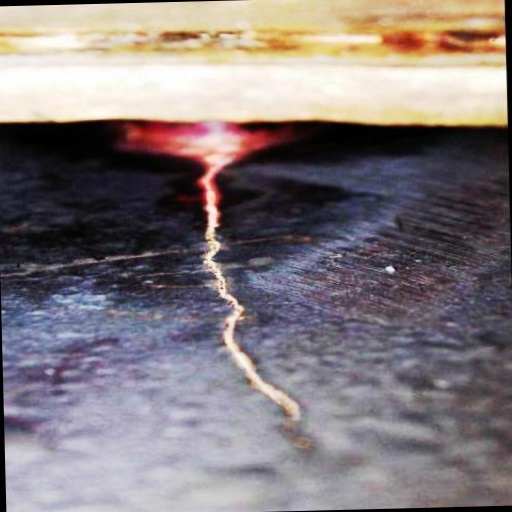crack: (79, 352, 434, 512)
